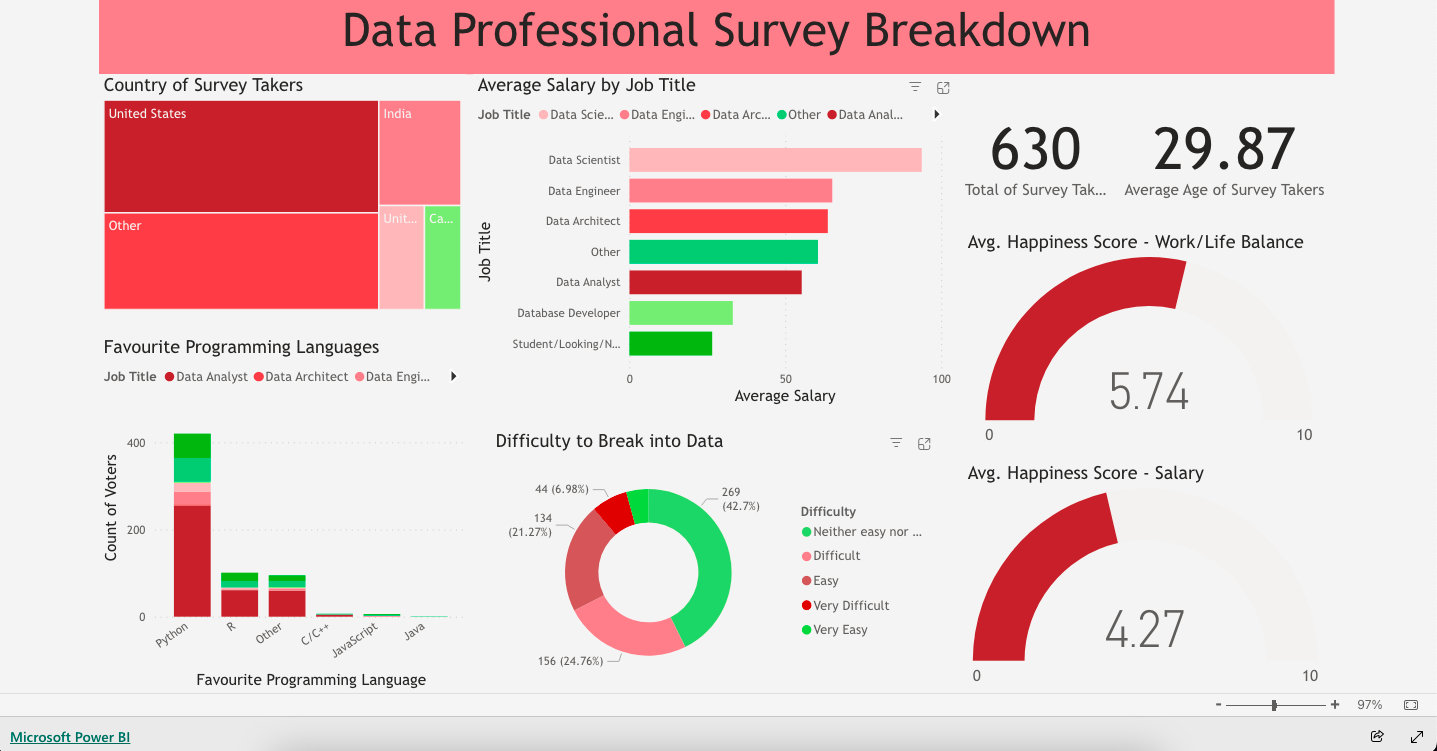

The page's visual inventory and layout, read from the dashboard file:
{"tool":"powerbi","page":{"name":"Page 1","canvas":[1280,720],"ordinal":0},"visuals":[{"type":"textbox","box":[0,0,1280,78.9],"z":0},{"type":"card","fields":{"Values":["Count(Data Professional Survey (2).Unique ID)"]},"box":[887.6,78.9,165.1,163],"z":1000},{"type":"card","fields":{"Values":["Avg(Data Professional Survey (2).Q10 - Current Age)"]},"box":[1052.7,78.9,227.3,163],"z":2000},{"type":"barChart","title":"Average Salary by  Job Title","fields":{"Category":["Data Professional Survey (2).Q1 - Which Title Best Fits your Current Role?.1"],"Y":["Avg(Data Professional Survey (2).Average Salary)"],"Series":["Data Professional Survey (2).Q1 - Which Title Best Fits your Current Role?.1"]},"box":[387.2,78.9,500.4,347.8],"z":3000},{"type":"columnChart","title":"Favourite Programming Languages","fields":{"Category":["Data Professional Survey (2).Q5 - Favorite Programming Language.1"],"Y":["CountNonNull(Data Professional Survey (2).Unique ID)"],"Series":["Data Professional Survey (2).Q1 - Which Title Best Fits your Current Role?.1"]},"box":[0,349.8,387.2,370.6],"z":4000},{"type":"treemap","title":"Country of Survey Takers","fields":{"Values":["CountNonNull(Data Professional Survey (2).Q11 - Which Country do you live in?.1)"],"Group":["Data Professional Survey (2).Q11 - Which Country do you live in?.1"]},"box":[0,78.9,380,249.1],"z":5000},{"type":"gauge","title":"Avg. Happiness Score - Work/Life Balance","fields":{"Y":["Avg(Data Professional Survey (2).Q6 - How Happy are you in your Current Position with the following? (Work/Life Balance)"],"MinValue":["Min(Data Professional Survey (2).Q6 - How Happy are you in your Current Position with the following? (Work/Life Balance)"],"MaxValue":["Max(Data Professional Survey (2).Q6 - How Happy are you in your Current Position with the following? (Work/Life Balance)"]},"box":[894.9,241.9,385.1,230.5],"z":6000},{"type":"gauge","title":"Avg. Happiness Score - Salary","fields":{"Y":["Avg(Data Professional Survey (2).Q6 - How Happy are you in your Current Position with the following? (Salary))"],"MinValue":["Min(Data Professional Survey (2).Q6 - How Happy are you in your Current Position with the following? (Salary))1"],"MaxValue":["Max(Data Professional Survey (2).Q6 - How Happy are you in your Current Position with the following? (Salary))2"]},"box":[894.9,480.6,377.9,239.8],"z":7000},{"type":"donutChart","title":"Difficulty to Break into Data","fields":{"Category":["Data Professional Survey (2).Q7 - How difficult was it for you to break into Data?"],"Y":["CountNonNull(Data Professional Survey (2).Q7 - How difficult was it for you to break into Data?)"]},"box":[405.9,447.4,462,273],"z":8000}]}

Visuals, with their boxes on the page's 1280x720 design canvas (x1, y1, x2, y2). These are canvas units, not pixel positions in the 1437x751 screenshot, which may show the page scaled, cropped or inside an application window:
textbox: <box>0,0,1280,79</box>
card - Count(Data Professional Survey (2).Unique ID): <box>888,79,1053,242</box>
card - Avg(Data Professional Survey (2).Q10 - Current Age): <box>1053,79,1280,242</box>
"Average Salary by  Job Title" barChart: <box>387,79,888,427</box>
"Favourite Programming Languages" columnChart: <box>0,350,387,720</box>
"Country of Survey Takers" treemap: <box>0,79,380,328</box>
"Avg. Happiness Score - Work/Life Balance" gauge: <box>895,242,1280,472</box>
"Avg. Happiness Score - Salary" gauge: <box>895,481,1273,720</box>
"Difficulty to Break into Data" donutChart: <box>406,447,868,720</box>
